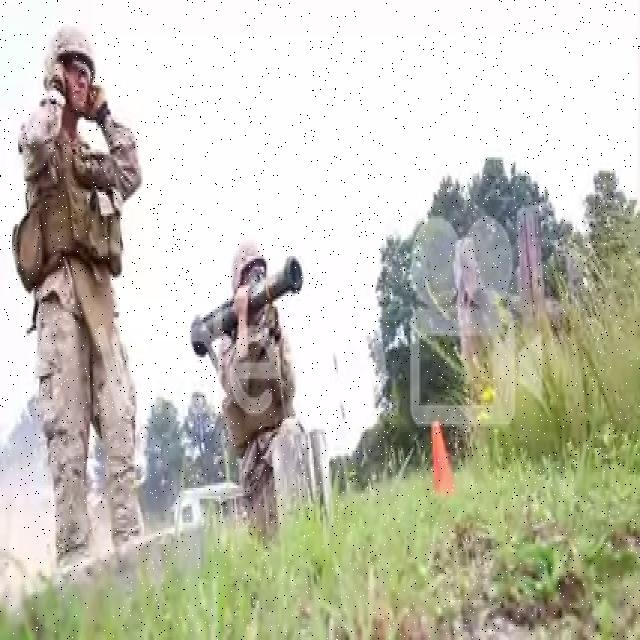bazooka: (191, 247, 308, 368)
